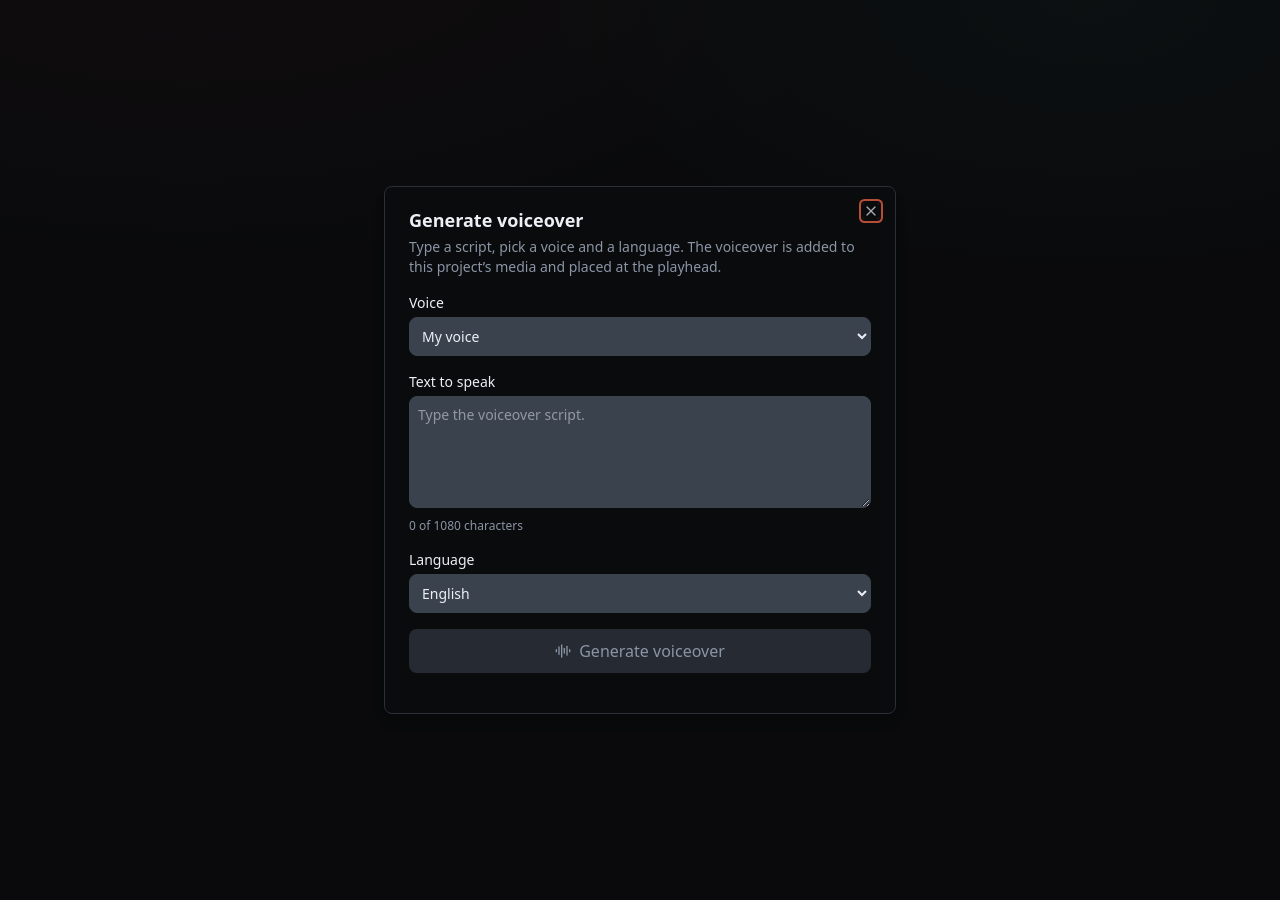
Scenario: Generate voiceover dialog (MM79) › a failed job shows its error and adds nothing
Type "Hello" into the text box labelled "Text to speak" at (640, 452), box [409,396,871,508]
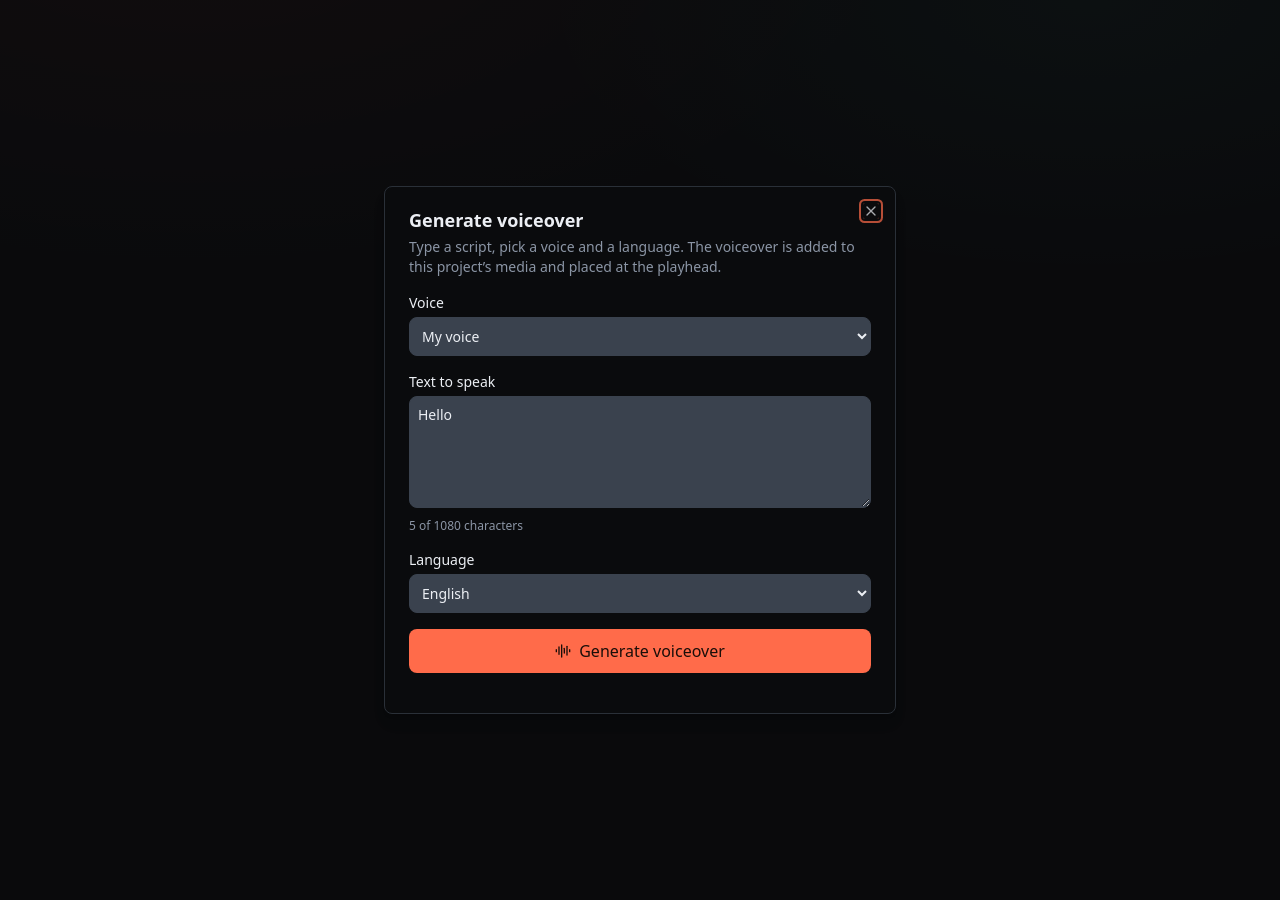
Click the button "Generate voiceover" at (640, 651), box [409,629,871,673]
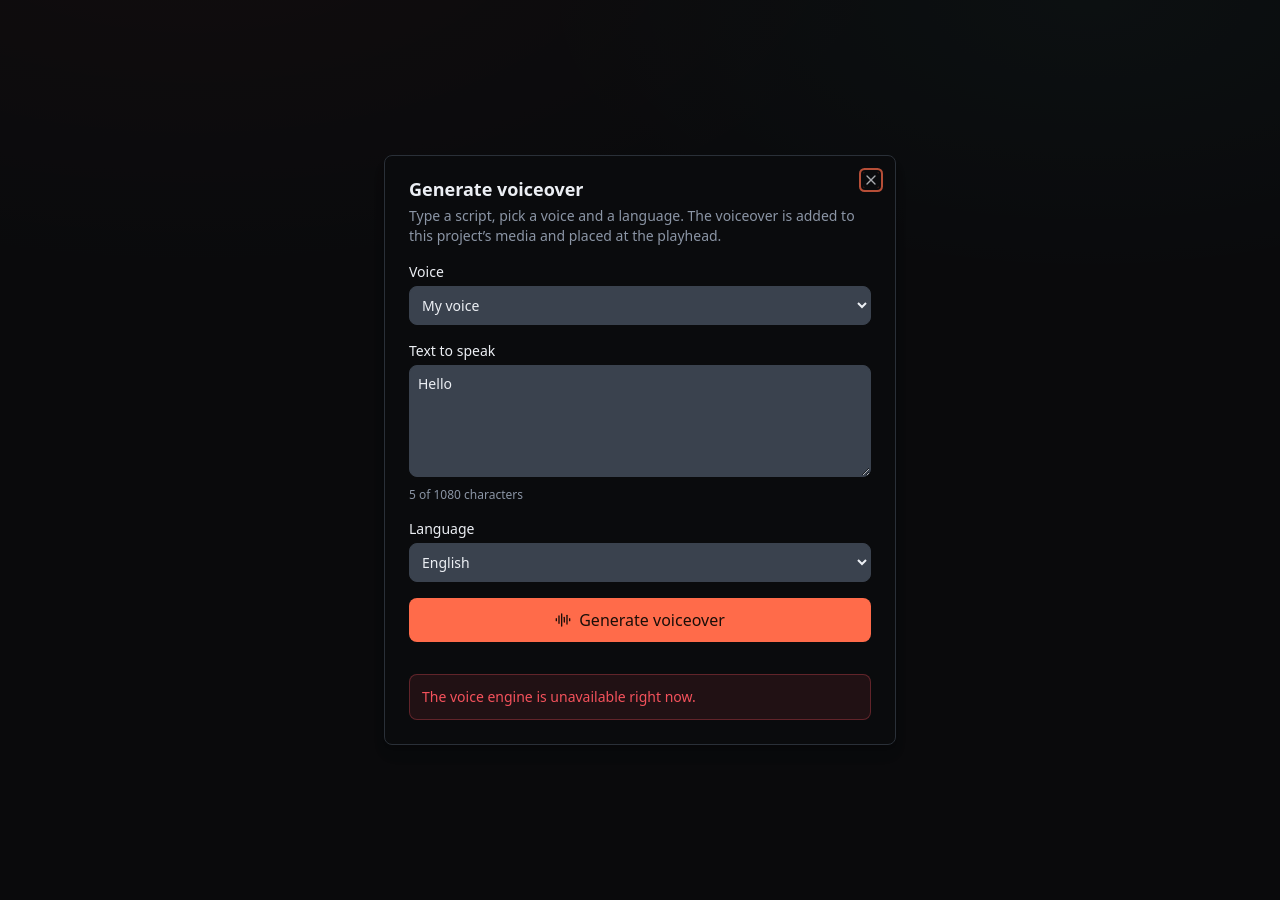
Now the message shows "voice engine is unavailable", box [422,687,696,706]
